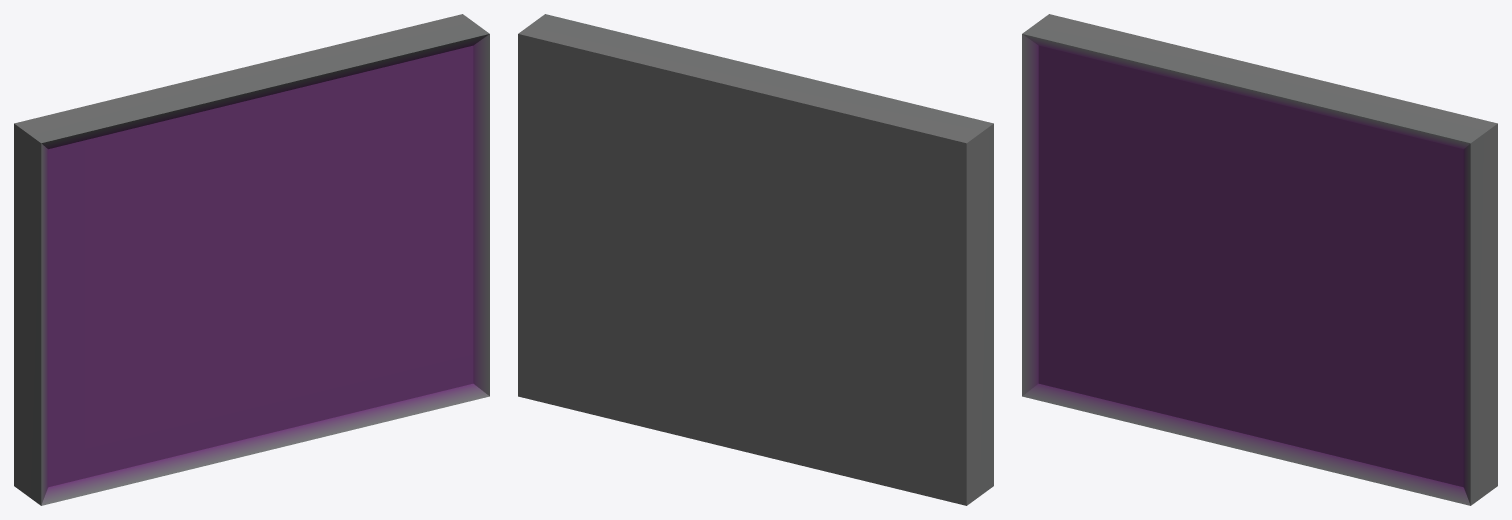
The picture shows the model from 3 angles, left to right: view 1: azimuth 30°, elevation 25°; view 2: azimuth 150°, elevation 25°; view 3: azimuth 330°, elevation 25°; orthographic projection.
Visible parts, largest first — view 1: panel_slab; view 2: panel_slab; view 3: panel_slab.
Boxes of the visible parts, x1,y1,x2,y2 form: panel_slab: [14, 14, 489, 505]; panel_slab: [518, 14, 993, 505]; panel_slab: [1022, 14, 1497, 505].
Size of the model in its own units: 0.6 by 0.4634 by 0.0628.
